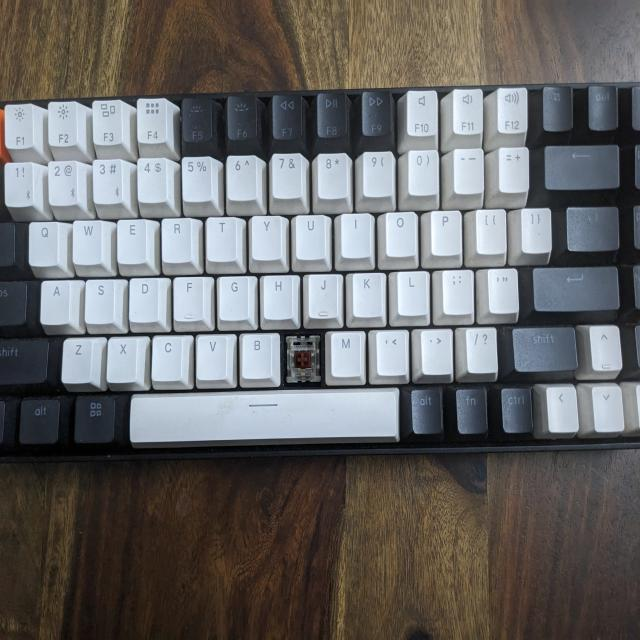C: (284, 334, 321, 387)
